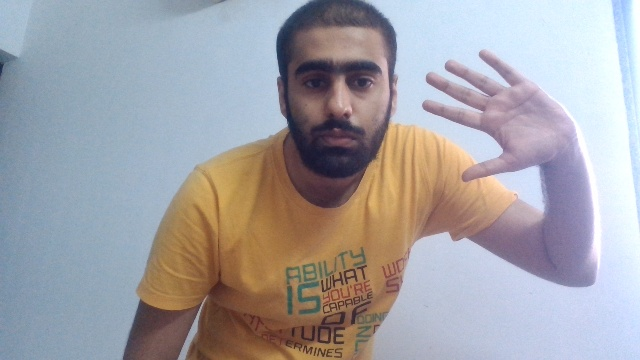paper: (421, 48, 579, 183)
